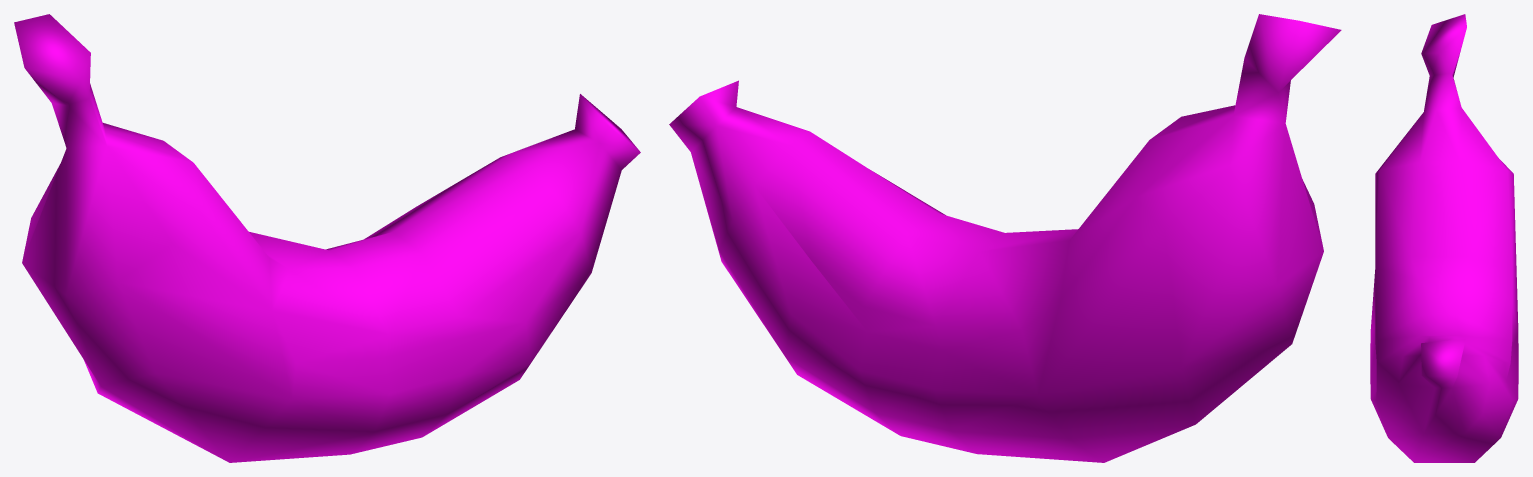
The model's file is banana_meshCollider.fbx.
The picture shows the model from 3 angles, left to right: view 1: azimuth 30°, elevation 25°; view 2: azimuth 150°, elevation 25°; view 3: azimuth 270°, elevation 25°; orthographic projection. The views are drawn at different scales.
Parts seen in each view (by area): view 1: foods_banana_meshCollider; view 2: foods_banana_meshCollider; view 3: foods_banana_meshCollider.
Part boxes in pixels (x1,y1,x2,y2): foods_banana_meshCollider: (14,14,640,462); foods_banana_meshCollider: (669,14,1341,462); foods_banana_meshCollider: (1370,14,1518,462).
Size of the model in its own units: 16.42 by 12.18 by 5.12.
